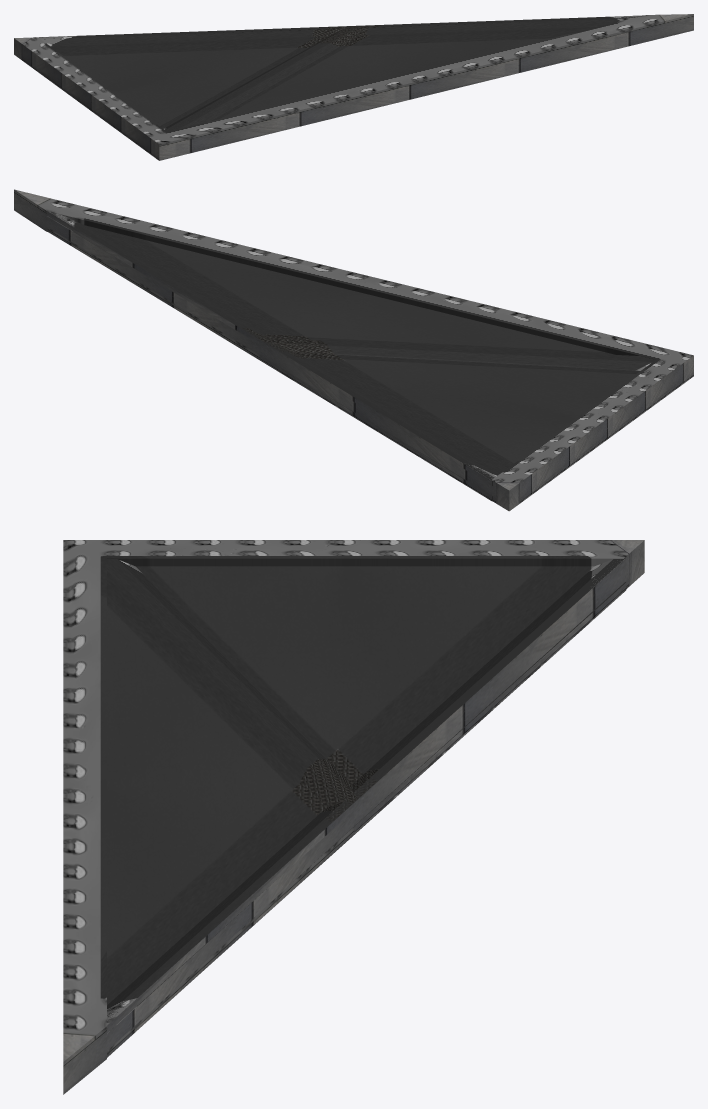
Rendered from UMOD_Prop-Triangle-1x2_.fbx.
The picture shows the model from 3 angles, top to bottom: view 1: azimuth 30°, elevation 25°; view 2: azimuth 150°, elevation 25°; view 3: azimuth 270°, elevation 25°; orthographic projection. The views are drawn at different scales.
Visible parts, largest first — view 1: pCube8; view 2: pCube8; view 3: pCube8.
Boxes of the visible parts, x1,y1,x2,y2 form: pCube8: (14, 14, 693, 160); pCube8: (14, 189, 693, 511); pCube8: (63, 540, 644, 1094).
Bounding box in the file's own units: 17 × 0.5 × 8.
Materials: 1 (1 with a texture image).
